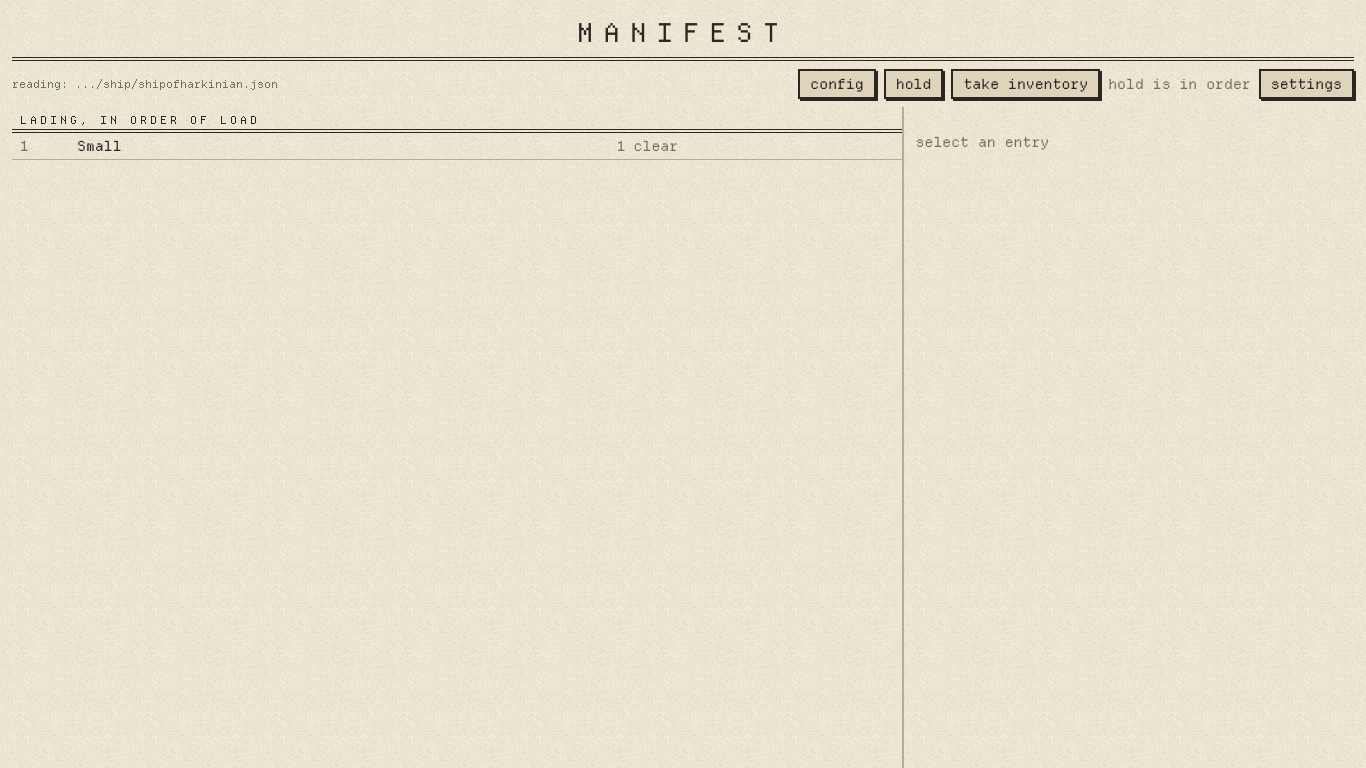
Test: App › hides the in-order note while the damaged page is shown
Expected: the text "hold is in order" is shown, x1=1108 y1=75 x2=1251 y2=93
Click the button "take inventory" at coordinates (1026, 84), box x1=951 y1=69 x2=1100 y2=99
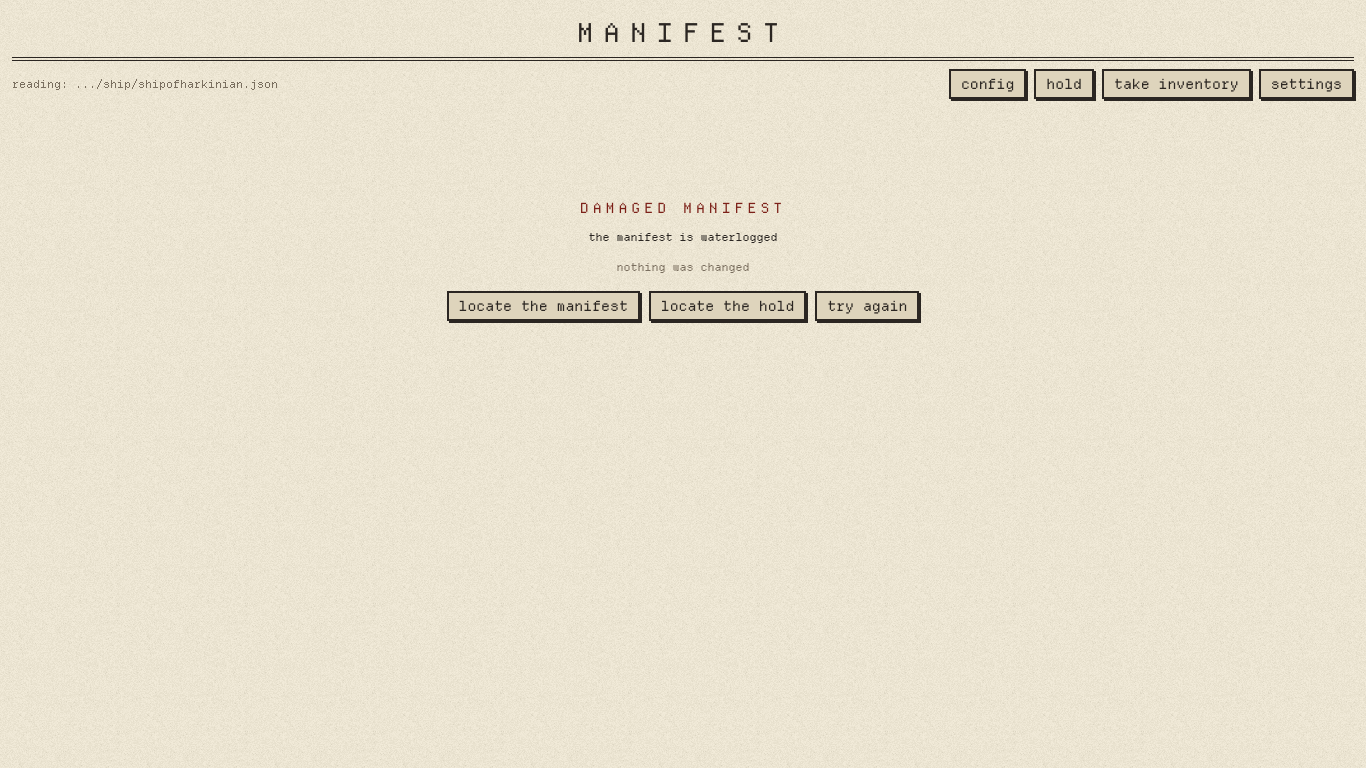
Now the text "DAMAGED MANIFEST" is shown, box x1=580 y1=199 x2=786 y2=217
Now the text "hold is in order" is gone
